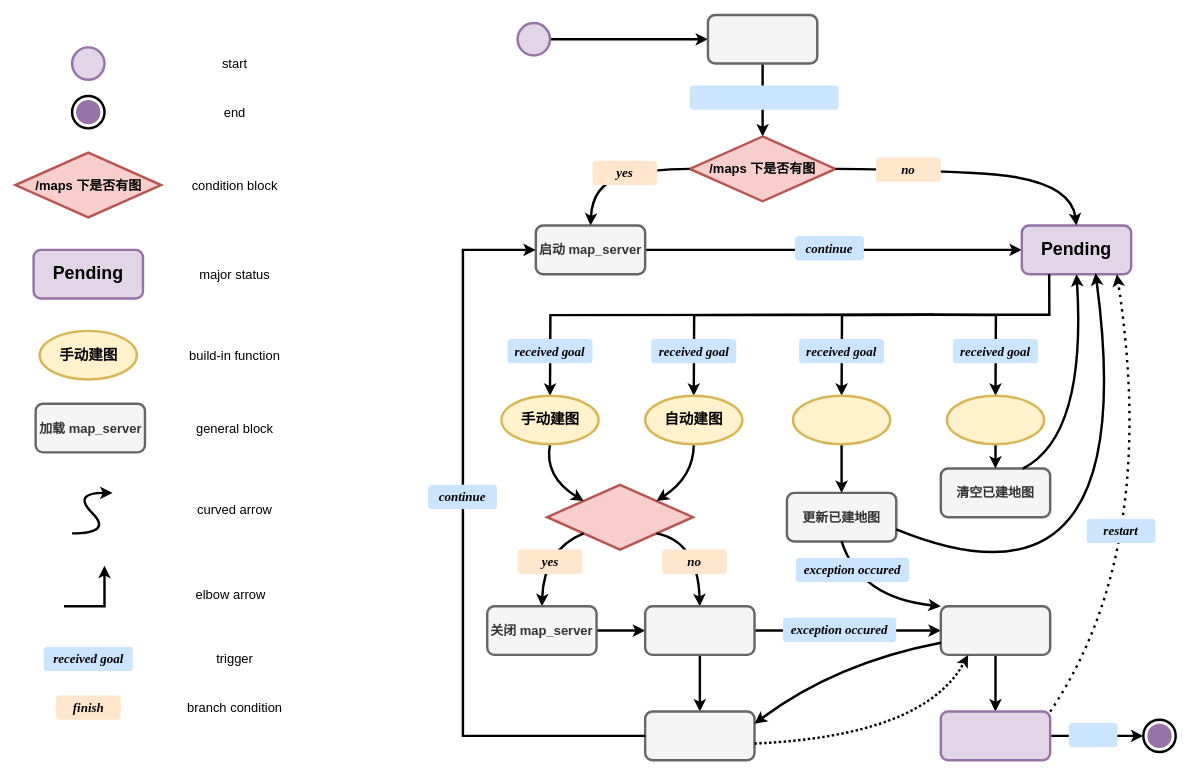
This 1191x775 diagram has some shape labels left out. The shapes that lost their labels are listed below. From the top down, each one's centre as x and y in pixels, then its label:
(x=762, y=38): 初始化
(x=763, y=97): 尝试启动 map_server
(x=841, y=419): 保存地图
(x=995, y=419): 清空地图
(x=620, y=516): map_server 是否启动
(x=699, y=630): 建图主逻辑
(x=995, y=630): 抛出 Exception
(x=699, y=735): 保存已建地图
(x=995, y=735): Stop
(x=1092, y=735): killed
